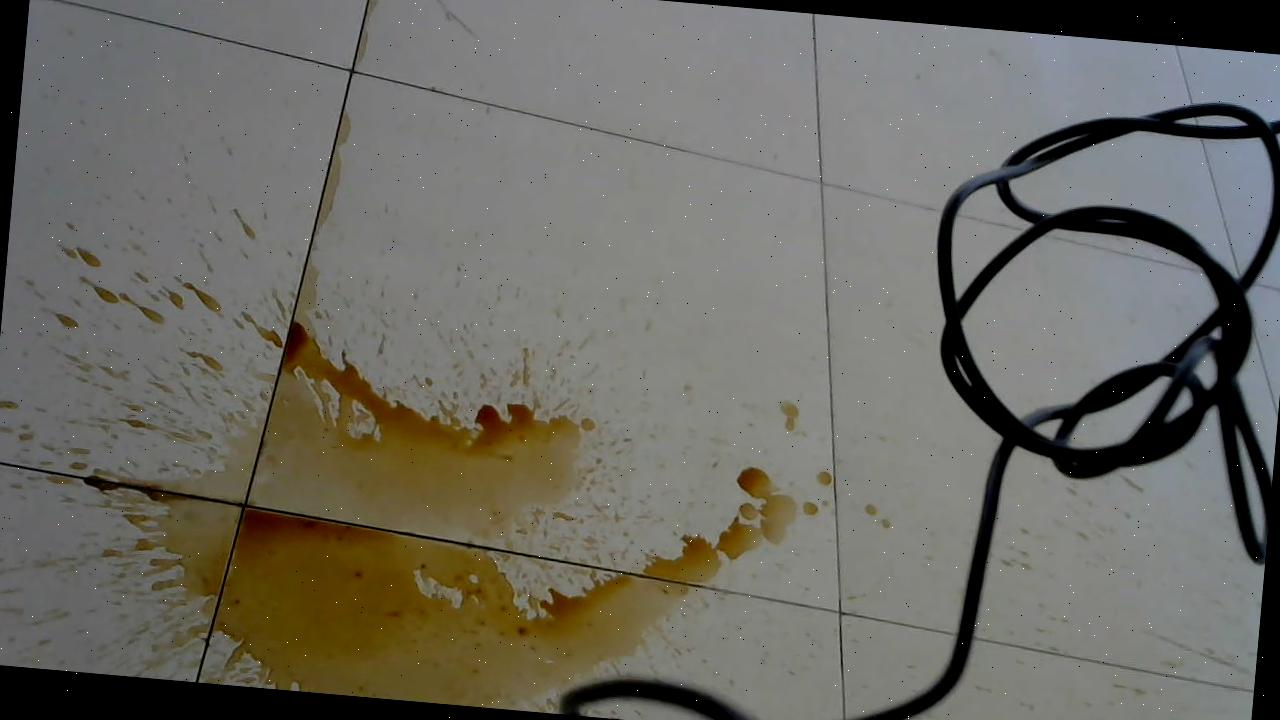dirty_floor: (0, 211, 853, 720)
